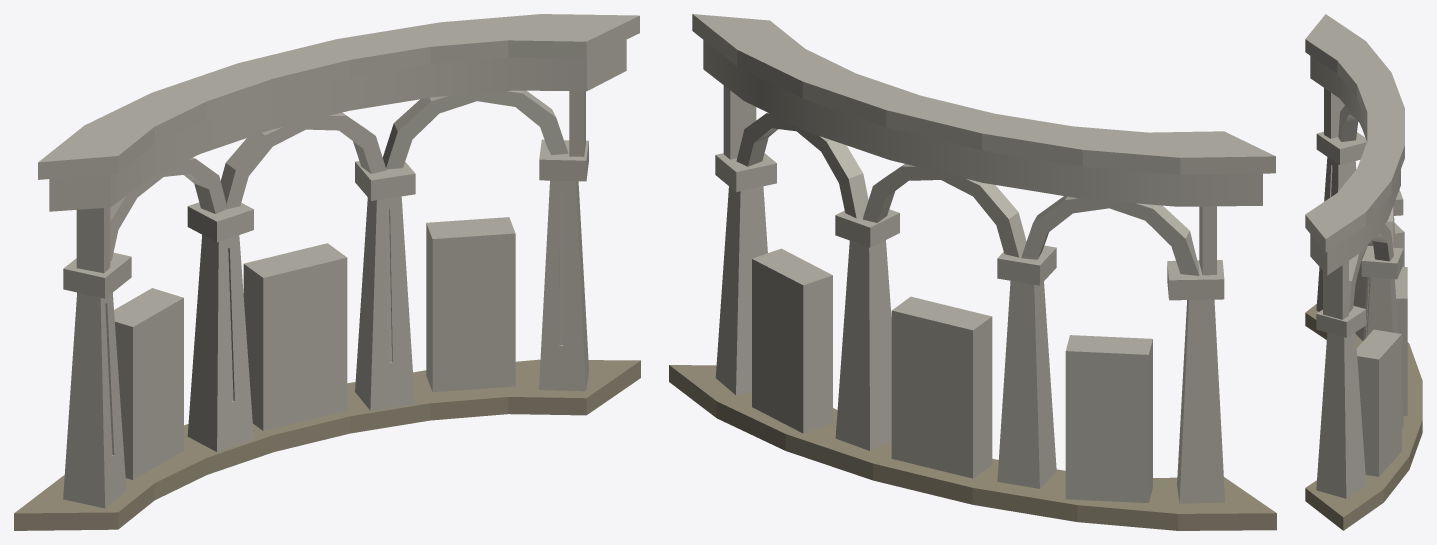
The picture shows the model from 3 angles, left to right: view 1: azimuth 30°, elevation 25°; view 2: azimuth 150°, elevation 25°; view 3: azimuth 270°, elevation 25°; orthographic projection. The views are drawn at different scales.
Parts seen in each view (by area): view 1: pCube18:PIV; view 2: pCube18:PIV; view 3: pCube18:PIV.
Boxes of the visible parts, x1,y1,x2,y2 form: pCube18:PIV: [14, 14, 640, 530]; pCube18:PIV: [669, 14, 1276, 530]; pCube18:PIV: [1305, 14, 1422, 530].
Size of the model in its own units: 18.41 by 10.49 by 3.89.
